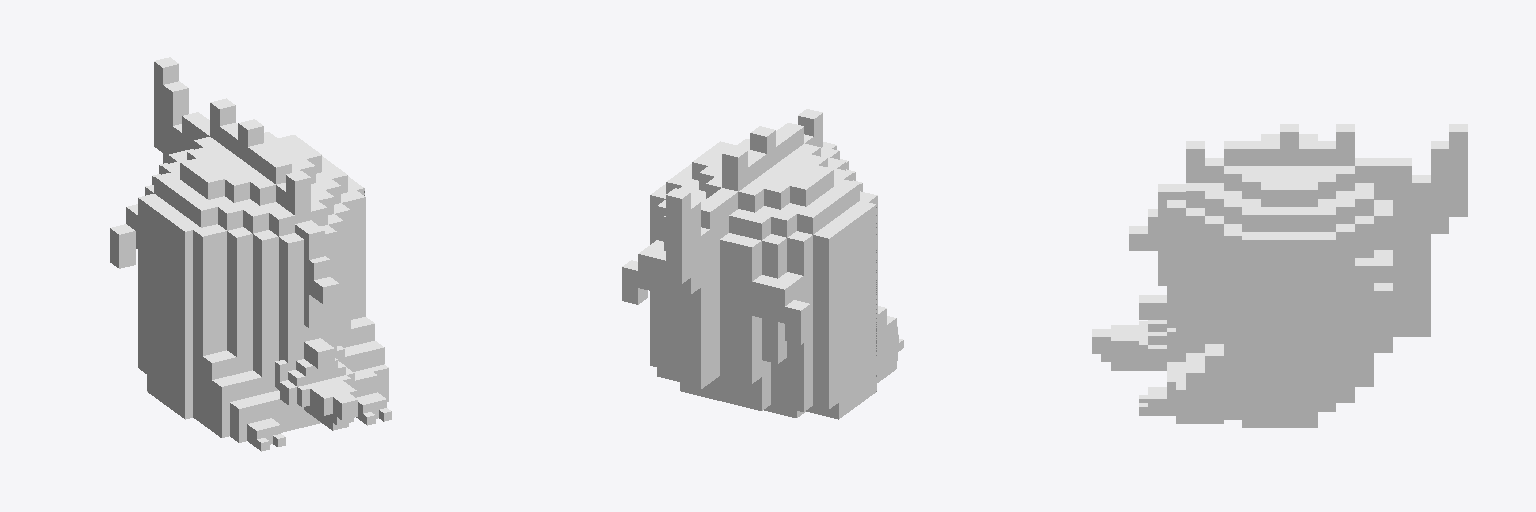
File: lizardbomb-2.obj
3 views of the same model, side by side, from view 1: azimuth 30°, elevation 25°; view 2: azimuth 150°, elevation 25°; view 3: azimuth 270°, elevation 25° (orthographic).
Visible parts, largest first — view 1: object 1; view 2: object 1; view 3: object 1.
Boxes of the visible parts, box(x1,y1,x2,y2) form: object 1: box(110, 57, 391, 451); object 1: box(622, 109, 903, 419); object 1: box(1092, 124, 1467, 427).
Bounding box in the file's own units: 2.2 × 3 × 4.